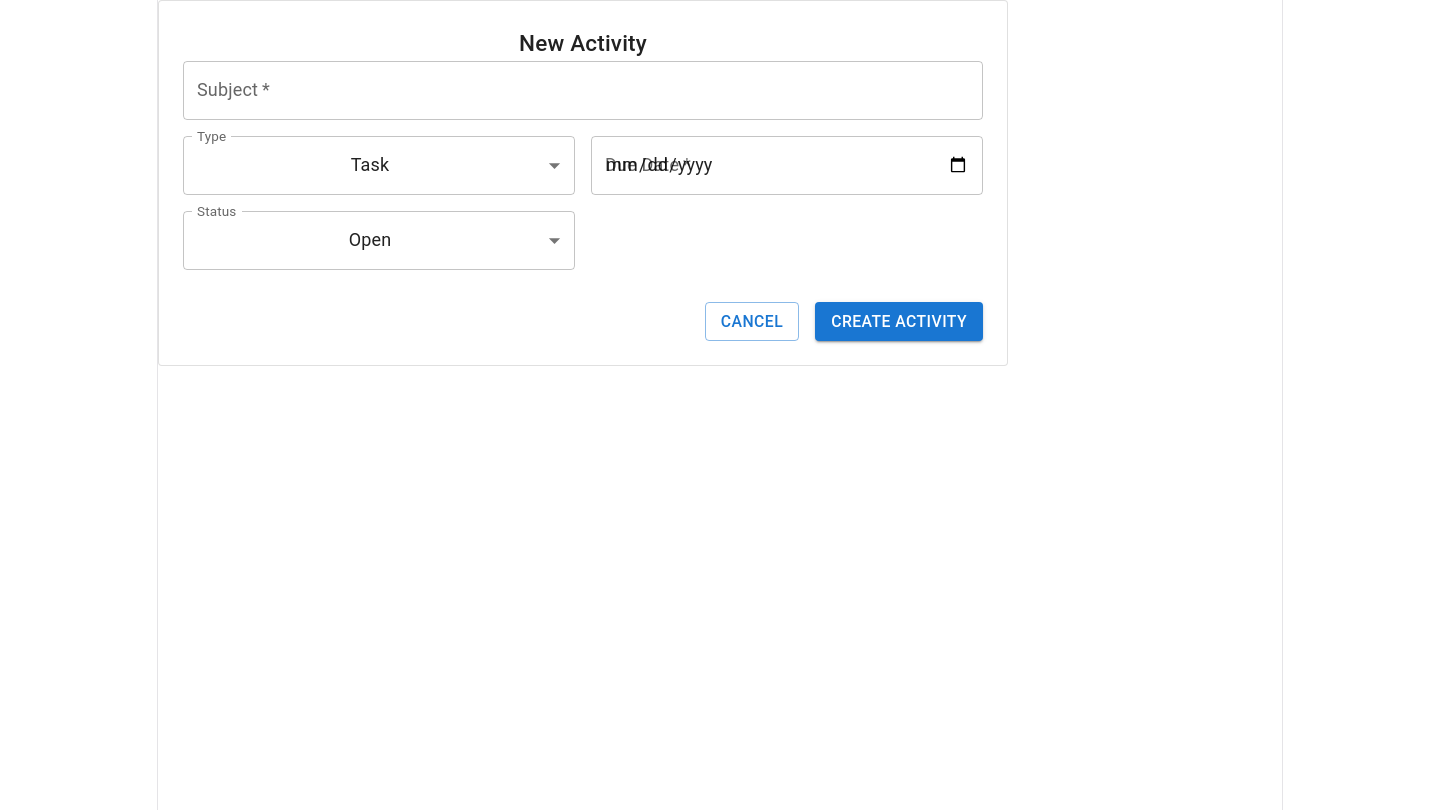
ActivityFormPage › shows validation error when Due Date is empty
The width and height of the screenshot is (1440, 810).
In the field labelled "Subject *": [583, 90] box [183, 61, 983, 120], type "Test activity"
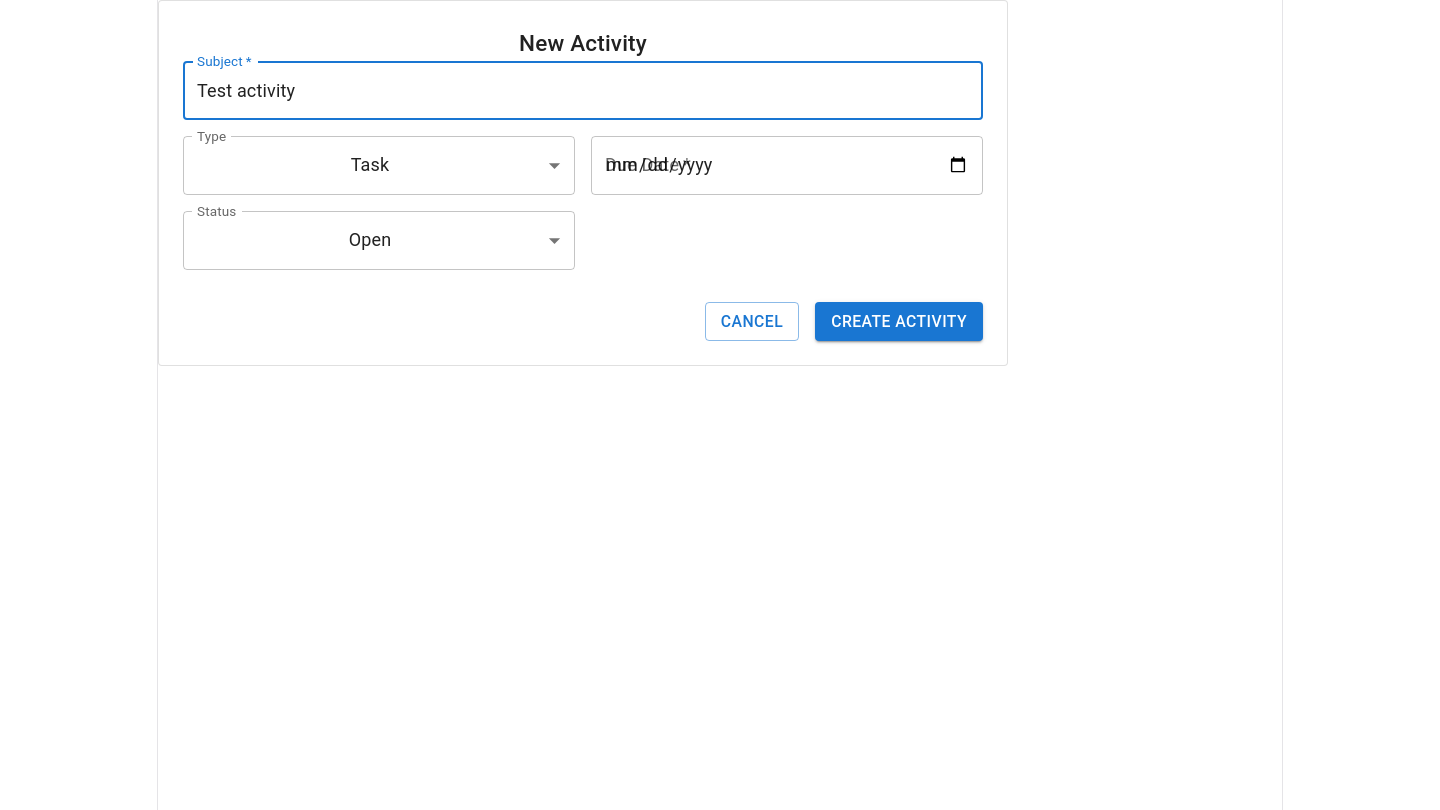
Click the button "Create Activity": [899, 321] box [815, 302, 983, 341]
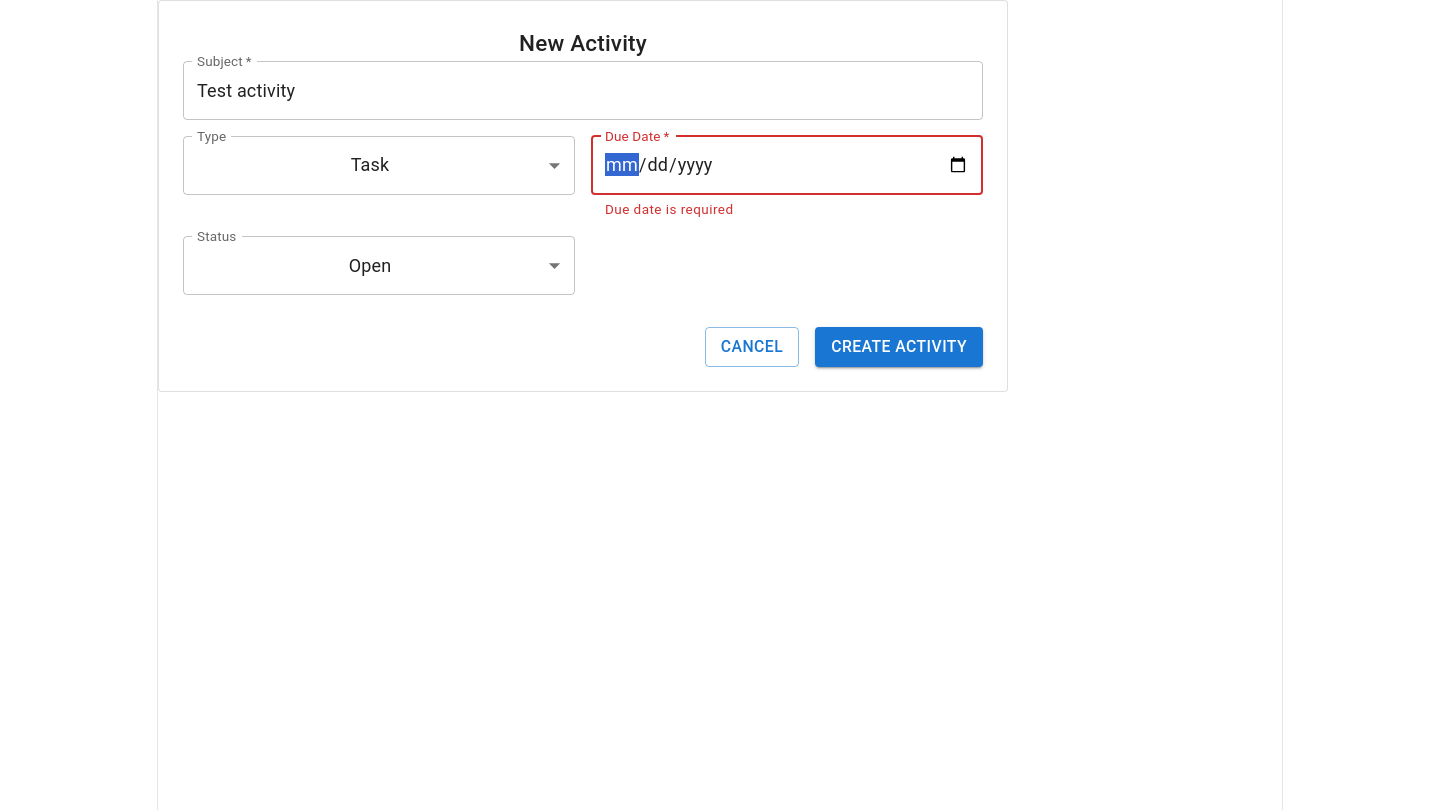
expect the text "Due date is required" is shown: met, box [605, 201, 734, 217]
